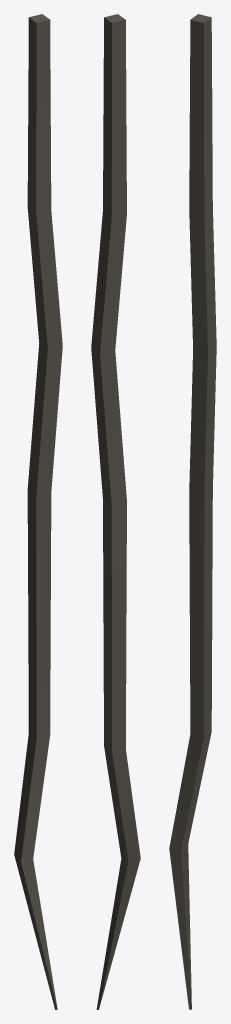
File: synty-tree-vines-02.gltf
The picture shows the model from 3 angles, left to right: view 1: azimuth 30°, elevation 25°; view 2: azimuth 210°, elevation 25°; view 3: azimuth 330°, elevation 25°; orthographic projection. The views are drawn at different scales.
Visible parts, largest first — view 1: SM_Tree_Vines_02; view 2: SM_Tree_Vines_02; view 3: SM_Tree_Vines_02.
Boxes of the visible parts, x1,y1,x2,y2 form: SM_Tree_Vines_02: (14, 14, 62, 1009); SM_Tree_Vines_02: (91, 14, 140, 1009); SM_Tree_Vines_02: (169, 14, 216, 1009).
Bounding box in the file's own units: 0.131 × 3.05 × 0.1062.
1 material, 1 textured.
